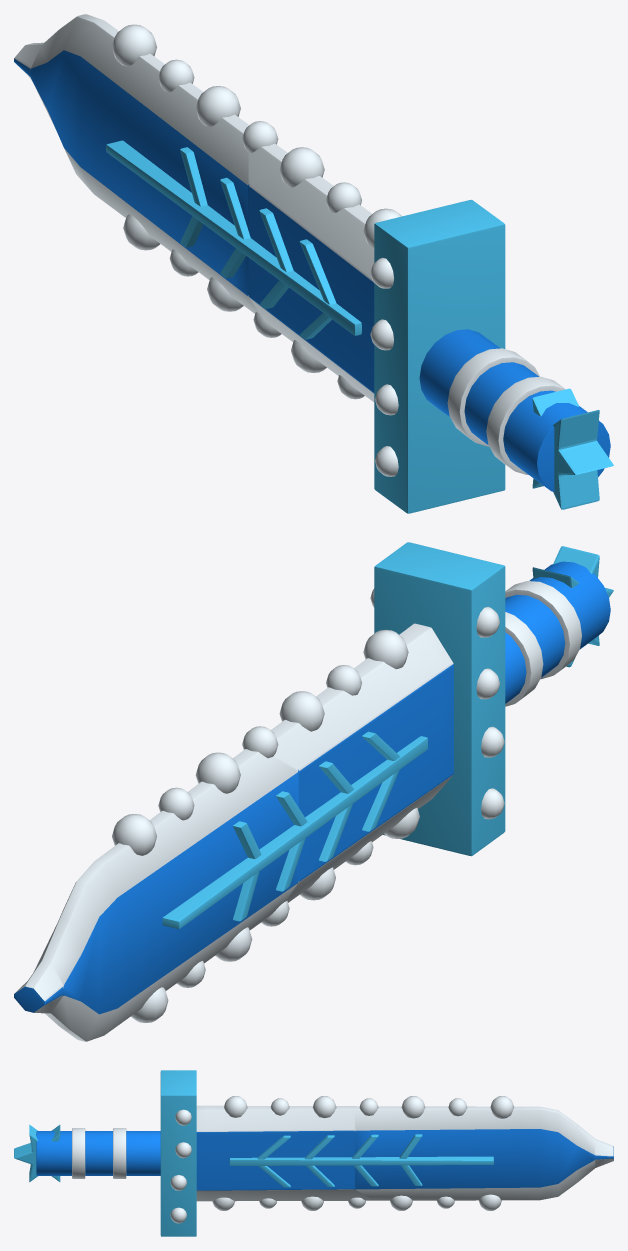
Rendered from Sword_RimecoatBroadsword.glb.
3 renders of one model, top to bottom at view 1: azimuth 30°, elevation 25°; view 2: azimuth 150°, elevation 25°; view 3: azimuth 270°, elevation 25°, orthographic. The views are drawn at different scales.
Parts seen in each view (by area): view 1: Sword_RimecoatBroadsword; view 2: Sword_RimecoatBroadsword; view 3: Sword_RimecoatBroadsword.
Boxes of the visible parts, x1,y1,x2,y2 form: Sword_RimecoatBroadsword: (14,14,613,513); Sword_RimecoatBroadsword: (14,542,613,1041); Sword_RimecoatBroadsword: (14,1070,613,1236).
Bounding box in the file's own units: 0.1281 × 0.2602 × 1.
1 material, 1 textured.
